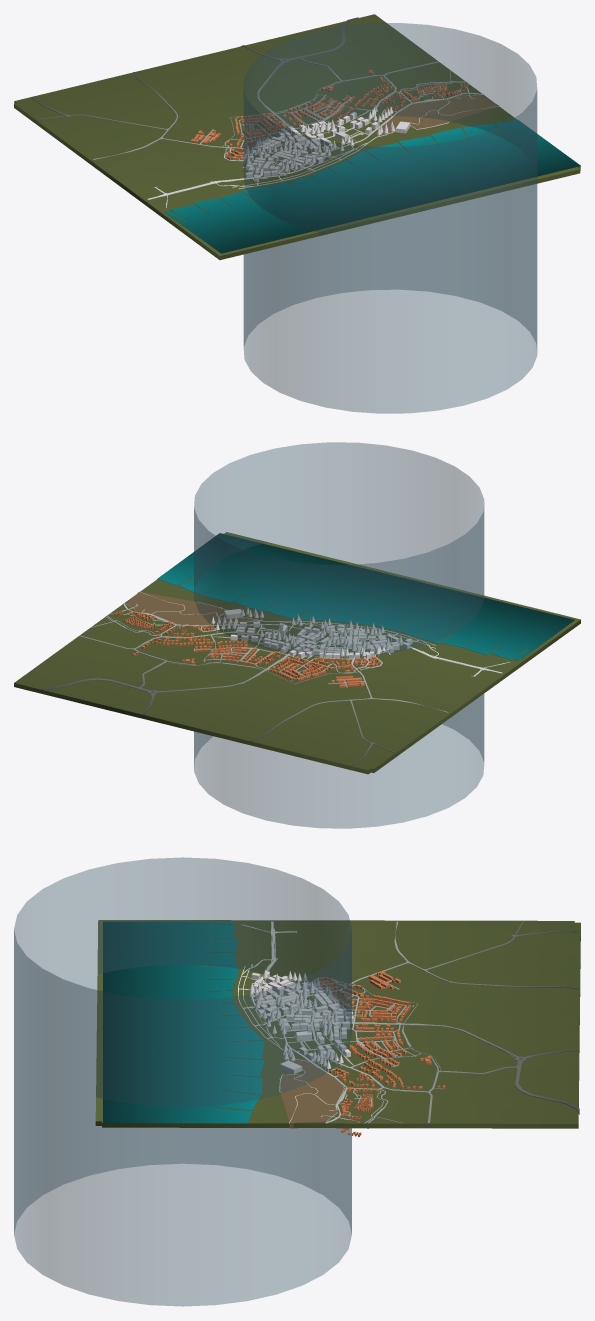
The model's file is Zeeuwland.fbx.
The picture shows the model from 3 angles, top to bottom: view 1: azimuth 30°, elevation 25°; view 2: azimuth 150°, elevation 25°; view 3: azimuth 270°, elevation 25°; orthographic projection. The views are drawn at different scales.
Parts seen in each view (by area): view 1: Cylinder, Grond, Zee, Grond.001, road, Gebouwen.001, farmland.001; view 2: Cylinder, Grond, Zee, Grond.001, road, Gebouwen.001, farmland.001; view 3: Cylinder, Grond, Grond.001, Zee, road, Gebouwen.001, farmland.001.
Part boxes in pixels (box(x1,y1,x2,y2)): Cylinder: box(243, 23, 537, 413); Grond: box(14, 14, 580, 253); Zee: box(165, 120, 580, 253); Grond.001: box(14, 17, 580, 259); road: box(31, 17, 499, 207); Gebouwen.001: box(191, 70, 466, 160); farmland.001: box(380, 95, 498, 135); Cylinder: box(194, 442, 484, 828); Grond: box(14, 538, 573, 774); Zee: box(157, 533, 574, 660); Grond.001: box(21, 532, 580, 772); road: box(29, 591, 510, 765); Gebouwen.001: box(113, 609, 380, 687); farmland.001: box(126, 592, 258, 625); Cylinder: box(14, 857, 351, 1306); Grond: box(102, 921, 580, 1128); Grond.001: box(95, 920, 574, 1125); Zee: box(103, 921, 264, 1123); road: box(238, 921, 579, 1123); Gebouwen.001: box(311, 971, 445, 1120); farmland.001: box(280, 1056, 343, 1128).
Size of the model in its own units: 10840 by 7585 by 12726.
4 materials, 1 textured.
